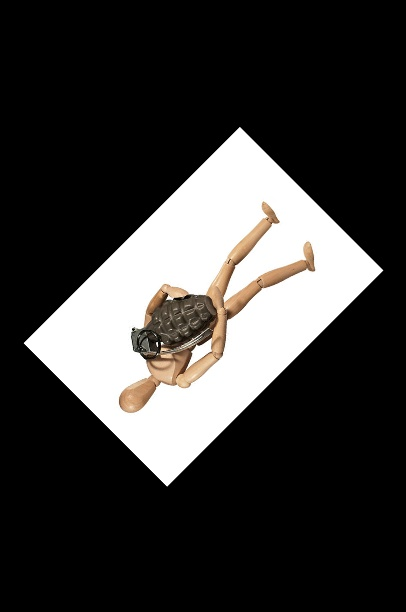e1: (127, 294, 217, 363)
